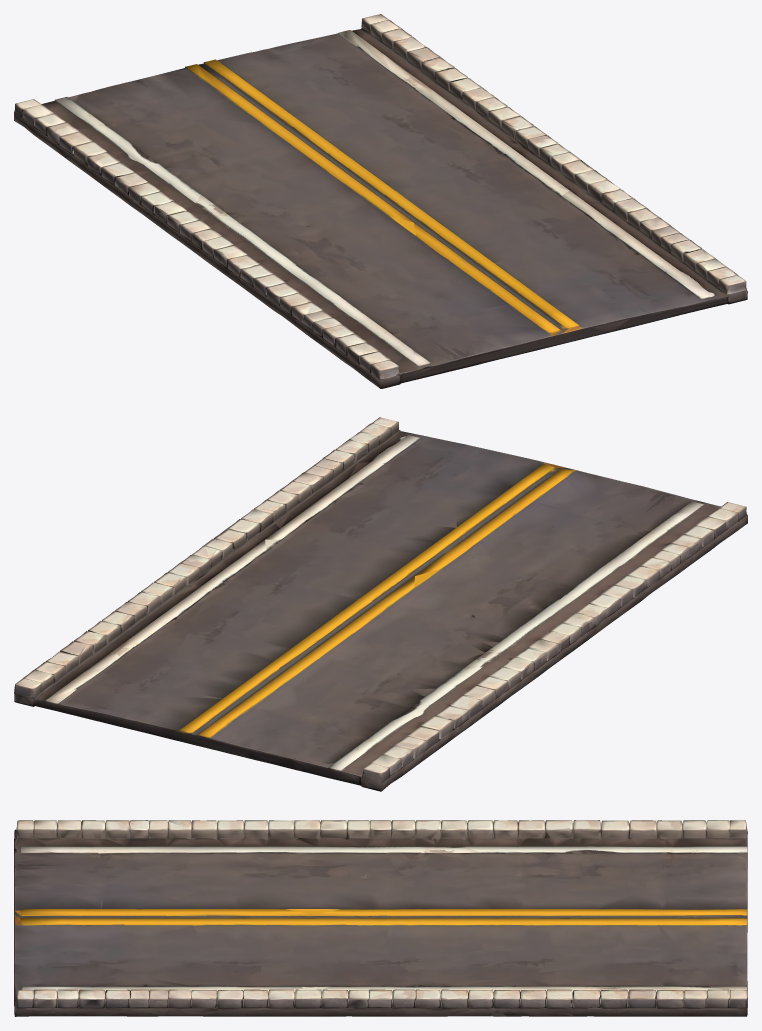
Rendered from road-module.glb.
3 renders of one model, top to bottom at view 1: azimuth 30°, elevation 25°; view 2: azimuth 150°, elevation 25°; view 3: azimuth 270°, elevation 25°, orthographic.
Visible parts, largest first — view 1: TripoRoadModule_Mesh; view 2: TripoRoadModule_Mesh; view 3: TripoRoadModule_Mesh.
Boxes of the visible parts, x1=… form: TripoRoadModule_Mesh: x1=14, y1=14, x2=747, y2=388; TripoRoadModule_Mesh: x1=14, y1=417, x2=747, y2=791; TripoRoadModule_Mesh: x1=14, y1=820, x2=747, y2=1016.
Bounding box in the file's own units: 11.6 × 0.55 × 20.
Materials: 1 (1 with a texture image).
